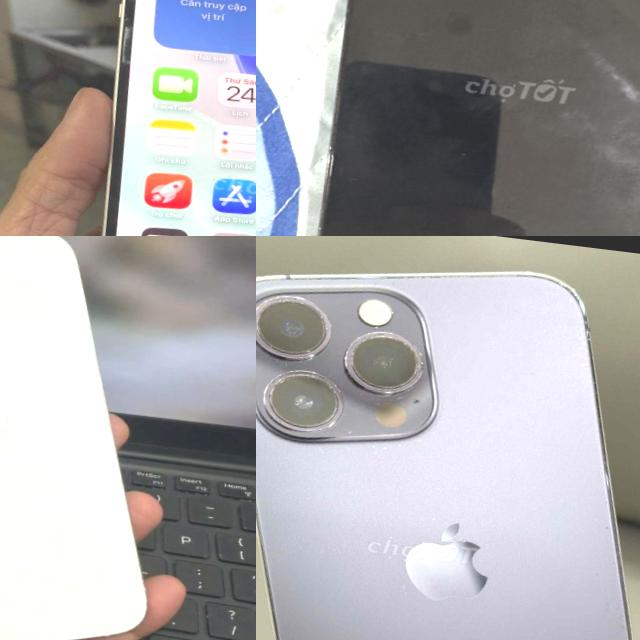gen_12_13: (293, 0, 640, 236)
gen_14: (256, 236, 640, 640), (57, 0, 256, 236)
gen_15: (0, 236, 203, 640)
scratch: (256, 359, 365, 446), (337, 318, 438, 406), (256, 286, 337, 366), (578, 318, 598, 346)
